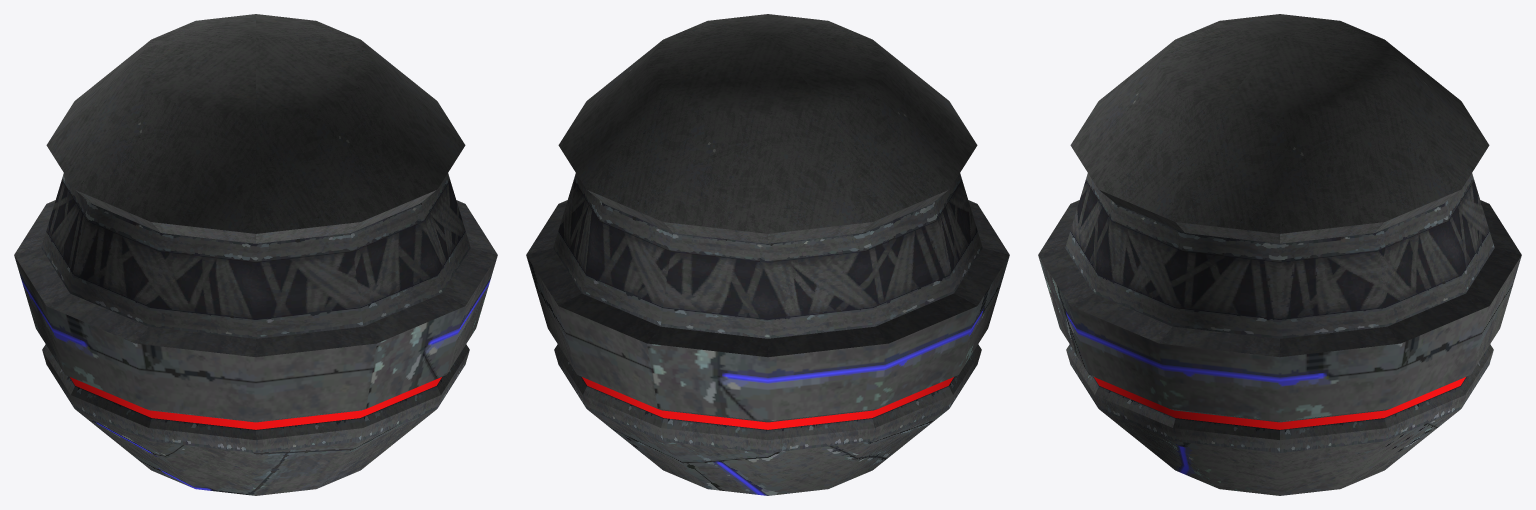
Rendered from robot_bomb.glb.
3 views of the same model, side by side, from view 1: azimuth 30°, elevation 25°; view 2: azimuth 150°, elevation 25°; view 3: azimuth 270°, elevation 25° (orthographic).
Parts seen in each view (by area): view 1: common/robot_bomb_3, common/robot_bomb_0, common/robot_bomb_1, common/robot_bomb_2; view 2: common/robot_bomb_3, common/robot_bomb_0, common/robot_bomb_1, common/robot_bomb_2; view 3: common/robot_bomb_3, common/robot_bomb_0, common/robot_bomb_1, common/robot_bomb_2.
Boxes of the visible parts, x1,y1,x2,y2 form: common/robot_bomb_3: (46, 14, 465, 243); common/robot_bomb_0: (14, 200, 497, 495); common/robot_bomb_1: (41, 173, 470, 452); common/robot_bomb_2: (70, 377, 441, 429); common/robot_bomb_3: (558, 14, 977, 243); common/robot_bomb_0: (526, 200, 1009, 495); common/robot_bomb_1: (553, 173, 982, 452); common/robot_bomb_2: (582, 377, 953, 429); common/robot_bomb_3: (1070, 14, 1489, 243); common/robot_bomb_0: (1038, 200, 1521, 495); common/robot_bomb_1: (1065, 173, 1494, 452); common/robot_bomb_2: (1094, 377, 1465, 429).
Bounding box in the file's own units: 2 × 2 × 2.
Materials: 4 (4 with a texture image).
